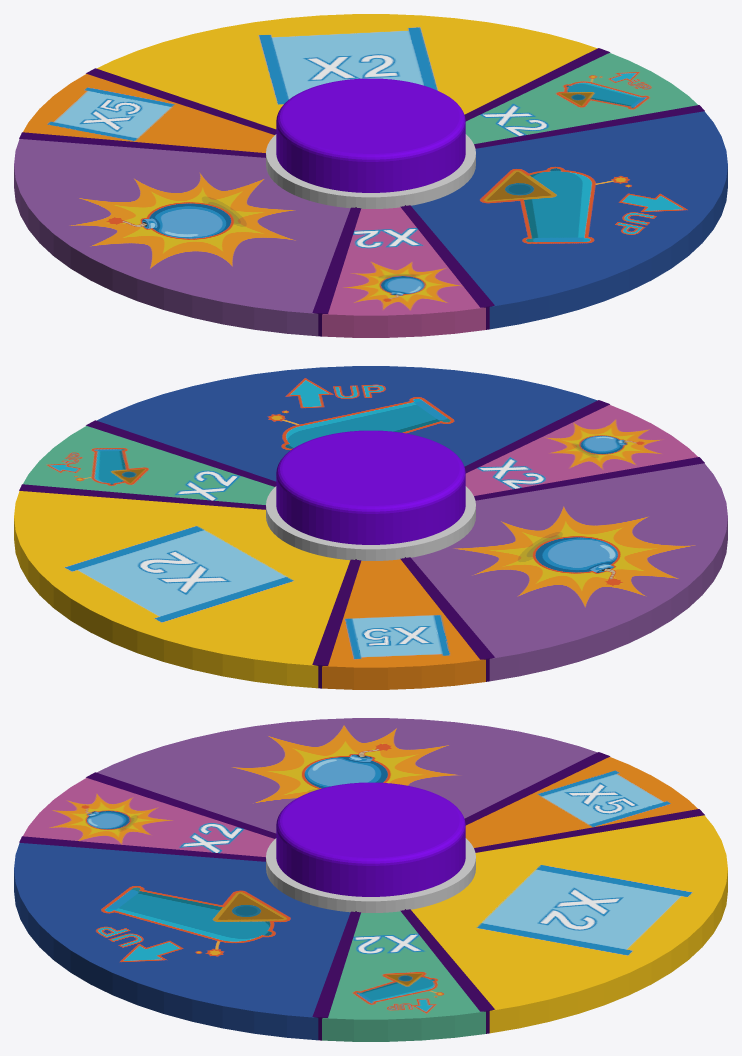
The model's file is rulet_2.fbx.
3 renders of one model, top to bottom at view 1: azimuth 30°, elevation 25°; view 2: azimuth 150°, elevation 25°; view 3: azimuth 270°, elevation 25°, orthographic.
Parts seen in each view (by area): view 1: bomb, cannon, kapija, Dugme, bomb x2, kapija x5, cannon x2, postolje za dugme, daska bomb x2 - bomb, daska kapija x5 - bomb, daska bomb x2 - top, daska cannon x2 - cannon (+2 smaller); view 2: kapija, bomb, cannon, Dugme, kapija x5, cannon x2, bomb x2, postolje za dugme, daska kapija x5 - kapija, daska kapija x5 - bomb, daska cannon x2 - kapija, daska bomb x2 - bomb (+2 smaller); view 3: cannon, kapija, bomb, Dugme, cannon x2, bomb x2, kapija x5, postolje za dugme, daska cannon x2 - kapija, daska cannon x2 - cannon, daska bomb x2 - top, daska kapija x5 - kapija (+2 smaller).
Part boxes in pixels (box(x1,y1,x2,y2)): bomb: box(14, 139, 350, 336); cannon: box(411, 111, 727, 329); kapija: box(97, 14, 597, 129); Dugme: box(276, 78, 465, 192); bomb x2: box(322, 207, 485, 337); kapija x5: box(23, 74, 274, 152); cannon x2: box(465, 53, 697, 143); postolje za dugme: box(266, 134, 475, 208); daska bomb x2 - bomb: box(312, 207, 361, 336); daska kapija x5 - bomb: box(19, 132, 265, 157); daska bomb x2 - top: box(400, 205, 494, 329); daska cannon x2 - cannon: box(474, 105, 704, 148); kapija: box(14, 491, 350, 688); bomb: box(411, 463, 727, 681); cannon: box(97, 366, 597, 481); Dugme: box(276, 430, 465, 544); kapija x5: box(322, 559, 485, 689); cannon x2: box(23, 426, 274, 504); bomb x2: box(465, 404, 697, 495); postolje za dugme: box(266, 486, 475, 560); daska kapija x5 - kapija: box(312, 559, 361, 688); daska kapija x5 - bomb: box(400, 557, 494, 681); daska cannon x2 - kapija: box(19, 484, 265, 509); daska bomb x2 - bomb: box(474, 457, 704, 500); cannon: box(14, 843, 350, 1040); kapija: box(411, 815, 727, 1033); bomb: box(97, 718, 597, 833); Dugme: box(276, 782, 465, 896); cannon x2: box(322, 911, 485, 1041); bomb x2: box(23, 778, 274, 857); kapija x5: box(465, 757, 697, 847); postolje za dugme: box(266, 838, 475, 912); daska cannon x2 - kapija: box(400, 909, 494, 1033); daska cannon x2 - cannon: box(312, 911, 360, 1040); daska bomb x2 - top: box(19, 836, 265, 861); daska kapija x5 - kapija: box(474, 809, 704, 852).
Bounding box in the file's own units: 522 × 57.12 × 523.
10 materials, 6 textured.
